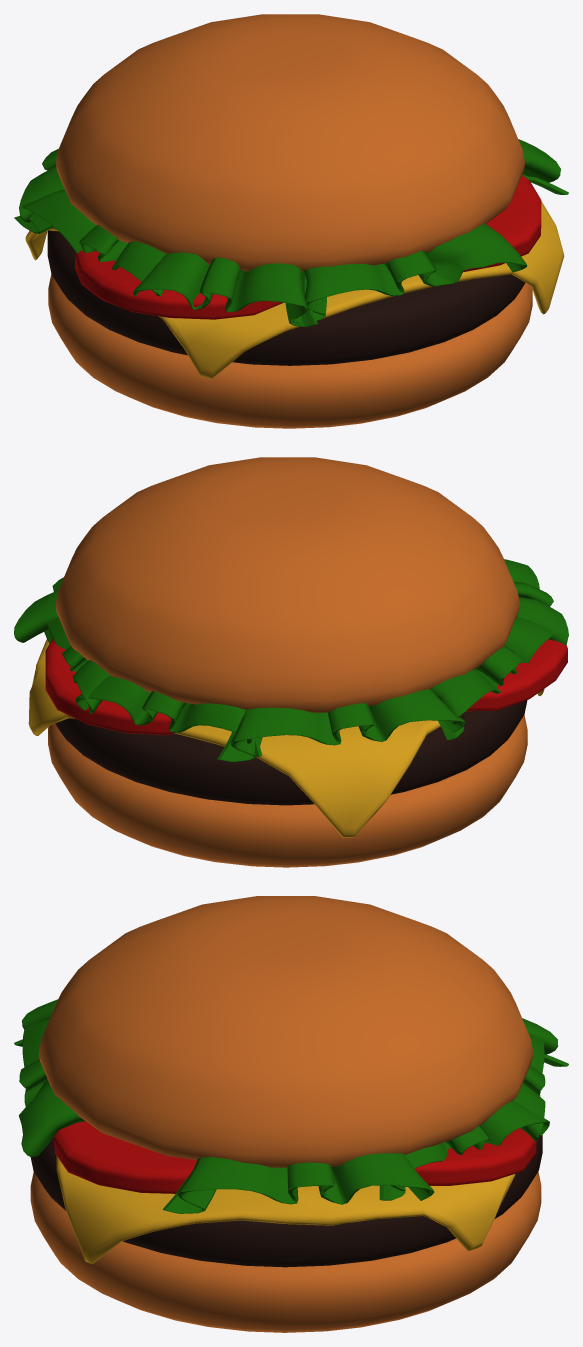
Rendered from mesh_Hamburger.FBX.
3 renders of one model, top to bottom at view 1: azimuth 30°, elevation 25°; view 2: azimuth 150°, elevation 25°; view 3: azimuth 270°, elevation 25°, orthographic. The views are drawn at different scales.
Visible parts, largest first — view 1: Hamburger; view 2: Hamburger; view 3: Hamburger.
Boxes of the visible parts, x1=… form: Hamburger: x1=14, y1=14, x2=568, y2=428; Hamburger: x1=14, y1=457, x2=568, y2=867; Hamburger: x1=14, y1=896, x2=568, y2=1332.
Bounding box in the file's own units: 114 × 68.18 × 115.
